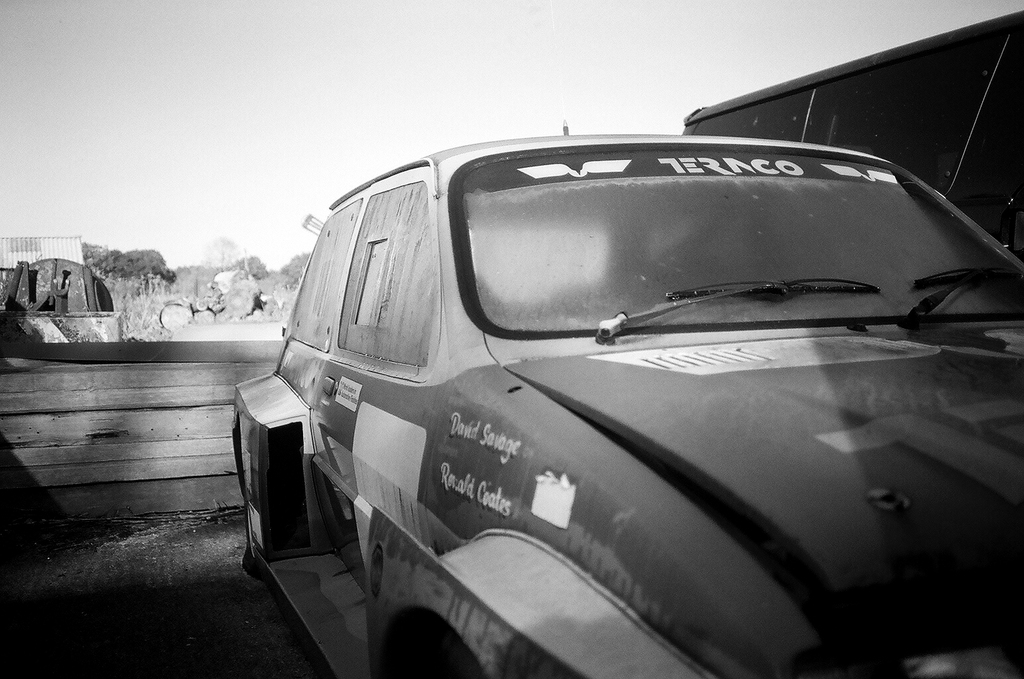mobil: (223, 148, 1024, 679)
